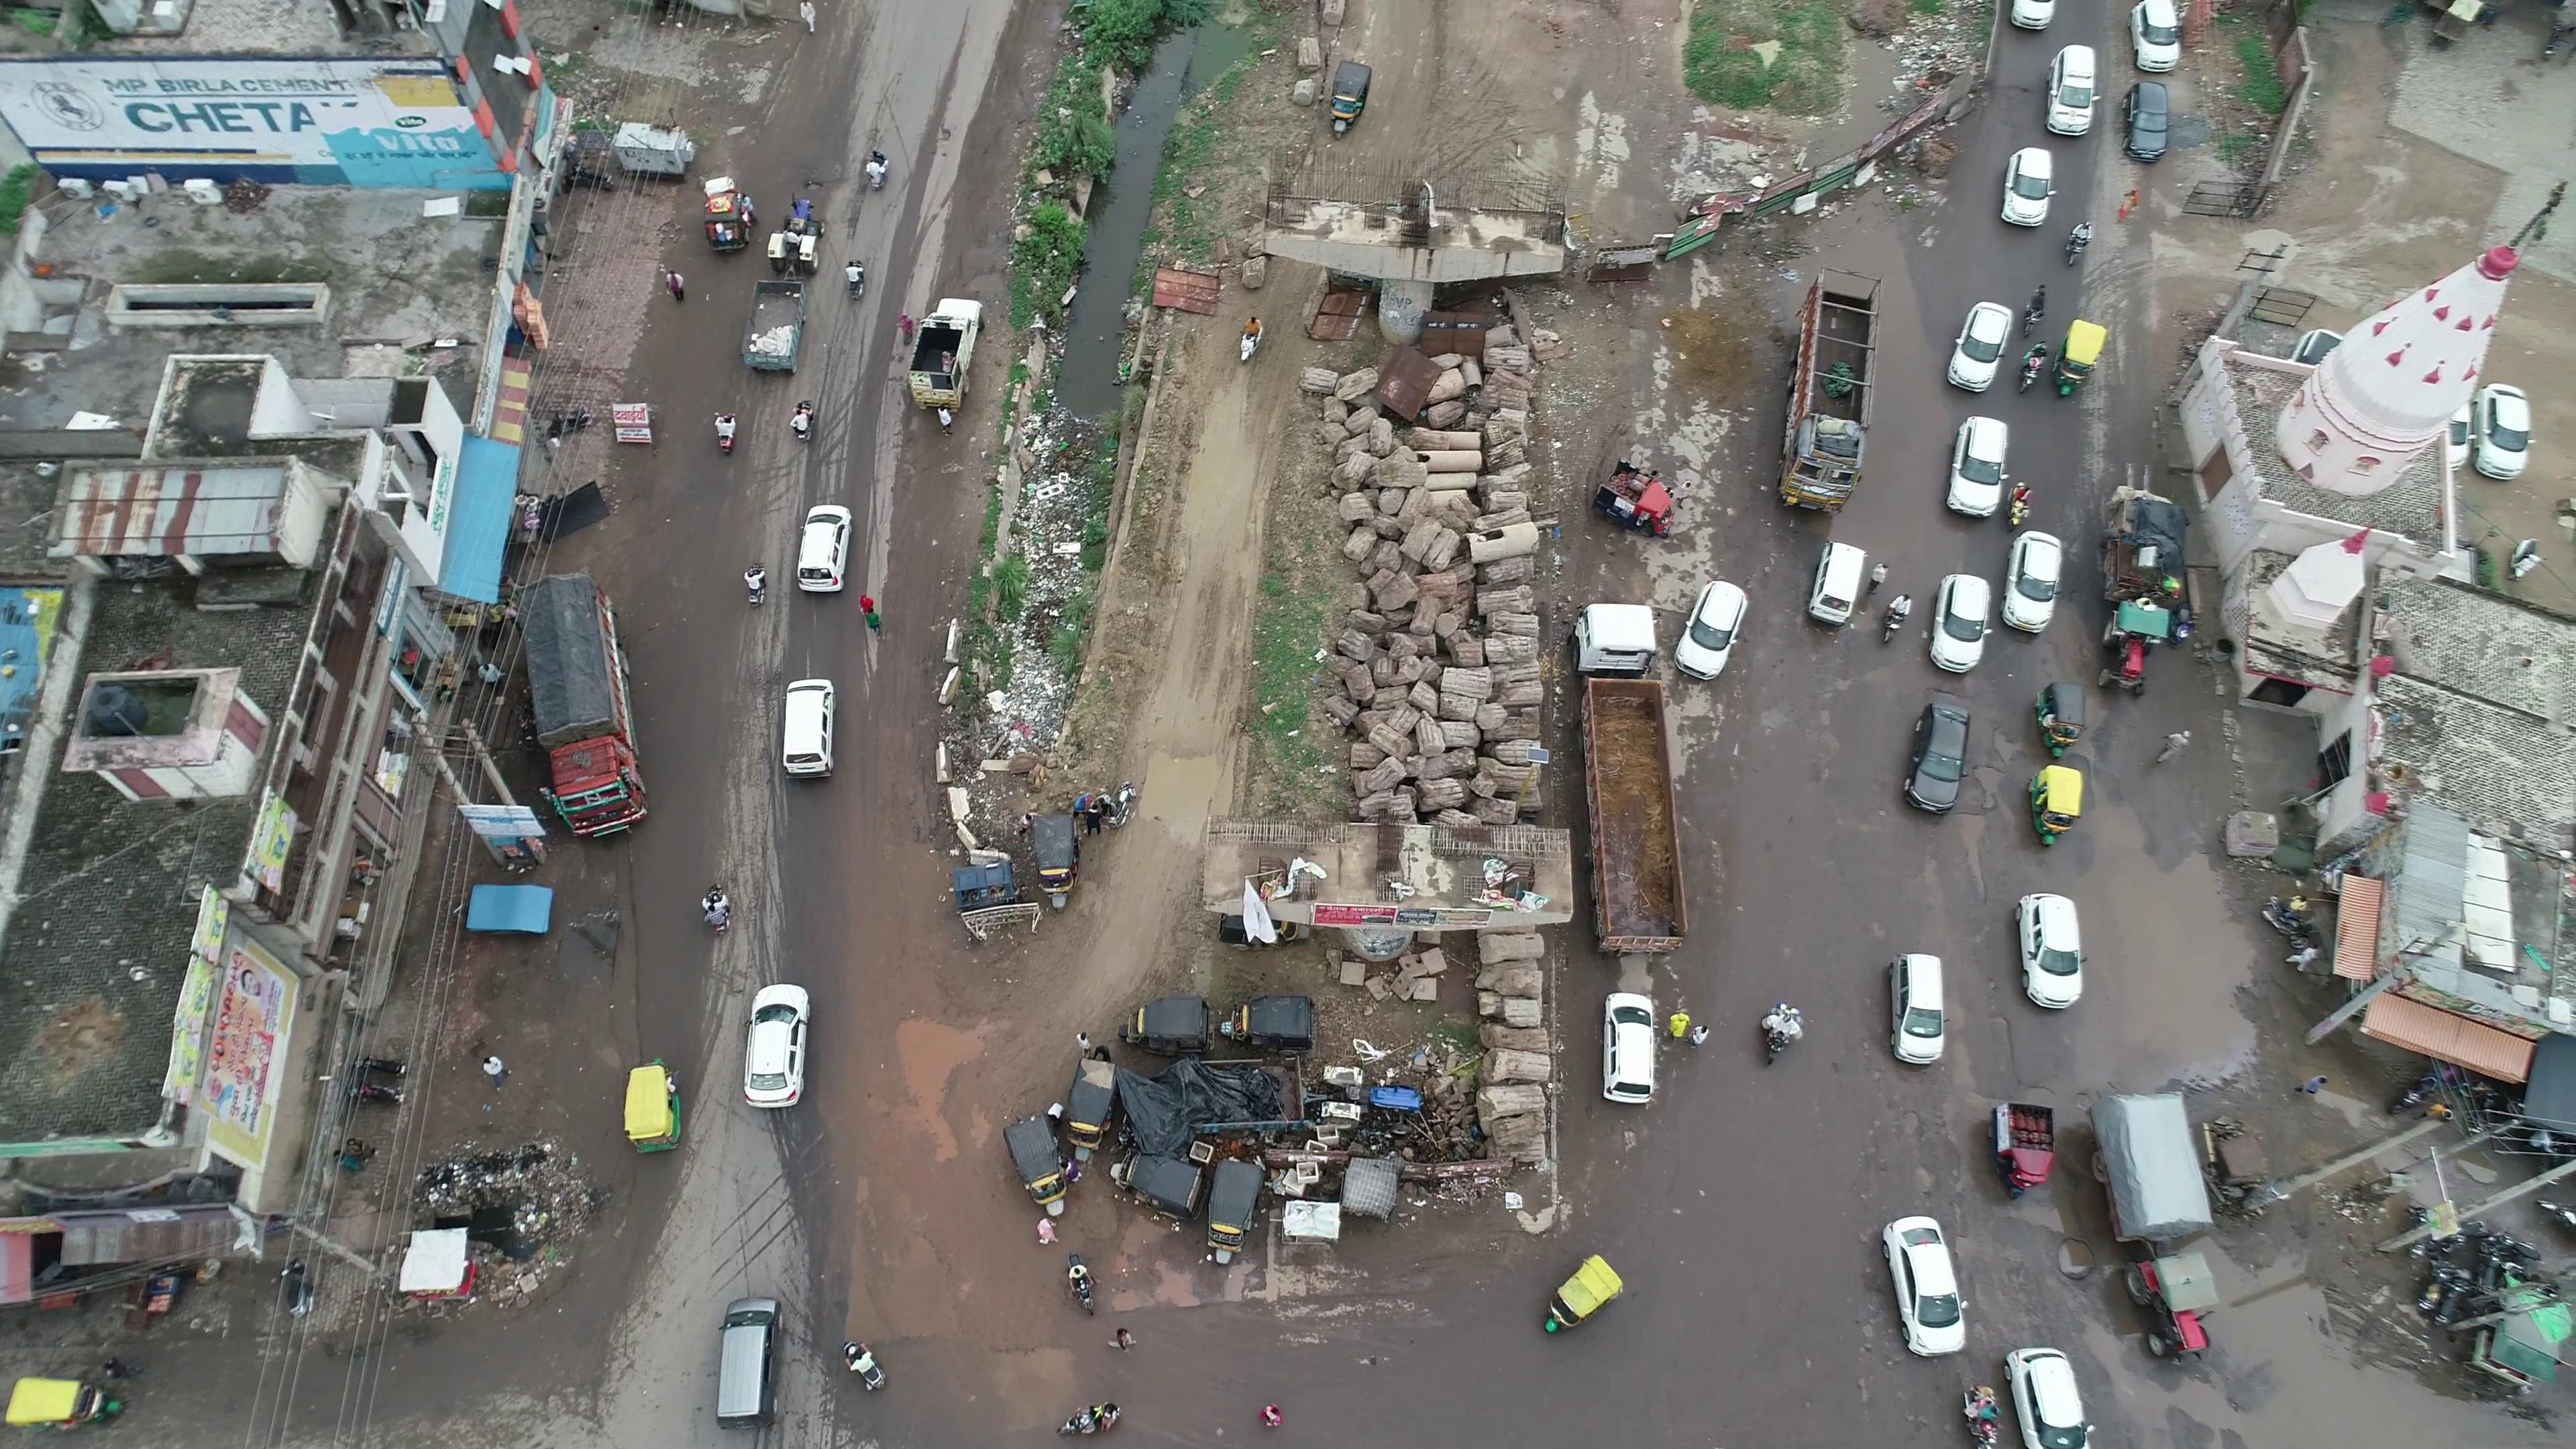Potholes: (2035, 1223, 2107, 1316)
